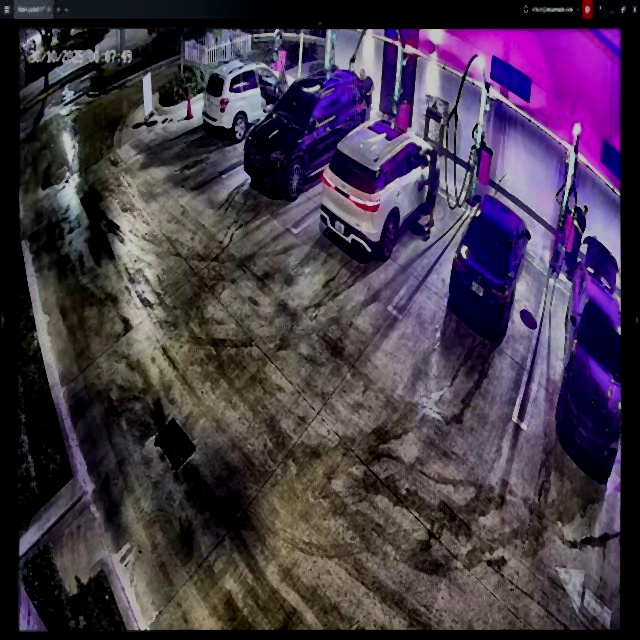Car: (322, 115, 437, 263), (241, 68, 368, 195), (449, 188, 531, 340)
